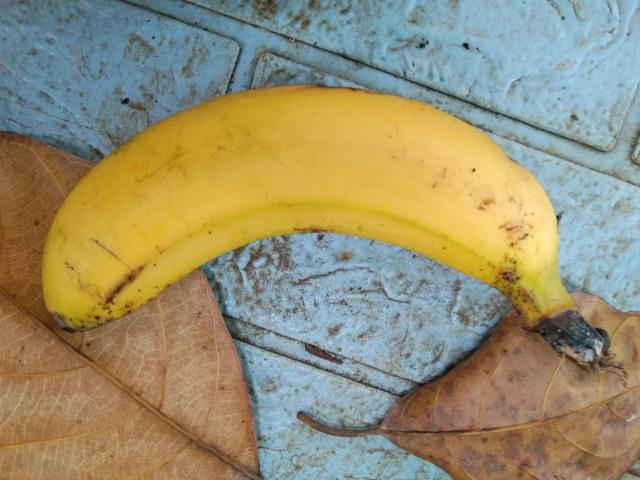freshripe: (39, 78, 583, 334)
